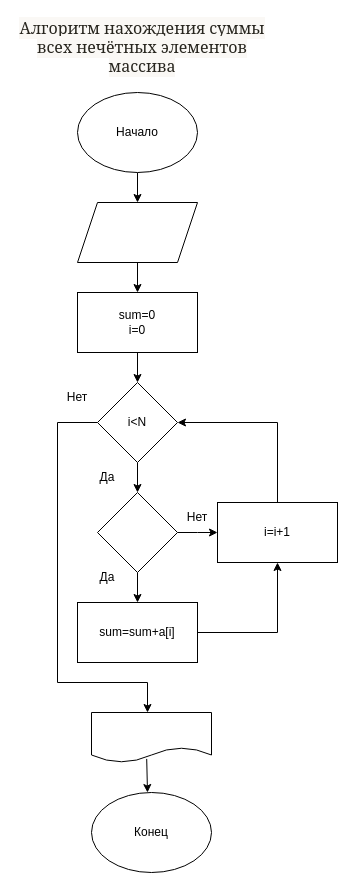
Some shapes in this 355 by 890 pixel diagram are drawn without their labels. Here are the shapes that lost their labels. From the top down, the centre of each, then its label:
At pixel 137 232: "N, A[]".
At pixel 137 532: "a[i]%2 ≠ 0".
At pixel 151 737: "sum".
